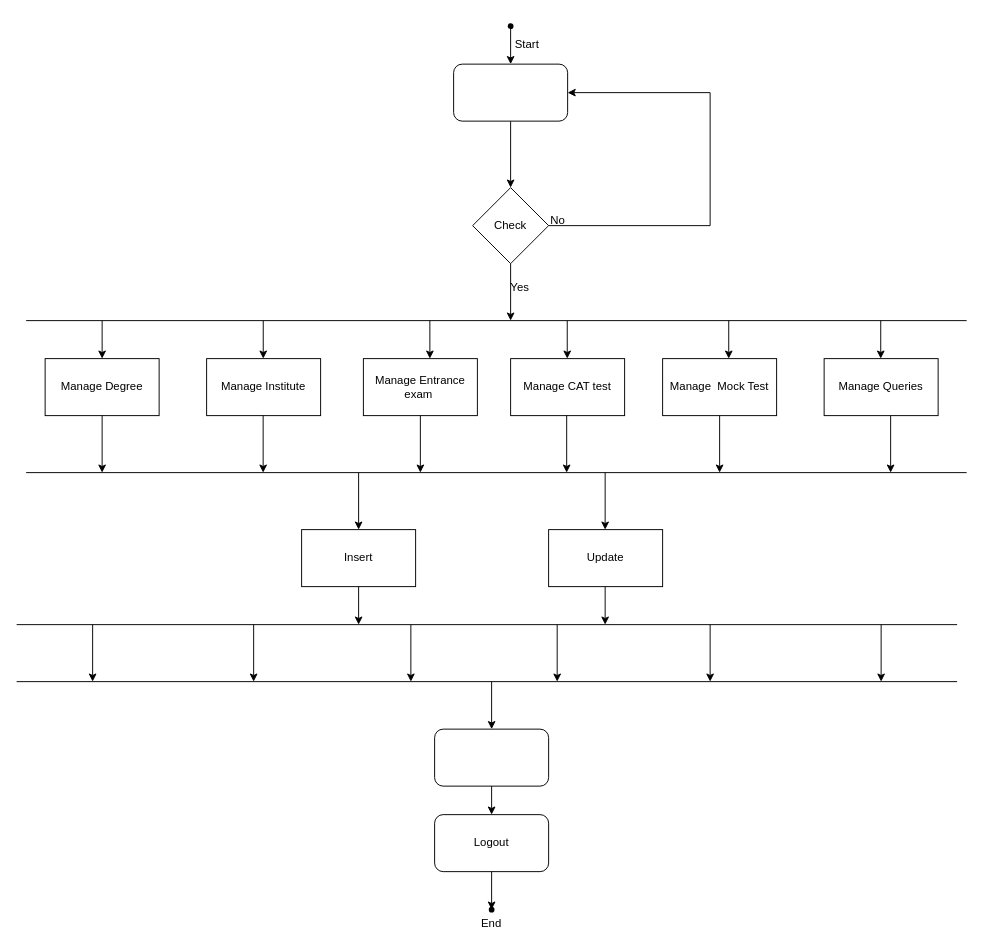
This 984x947 diagram has some shape labels left out. The shapes that lost their labels are listed below. From the top down, each one's box as (x1, y1, x2, y2) in pixels, then its label:
(453, 63, 568, 121): Login
(434, 728, 549, 786): Display
